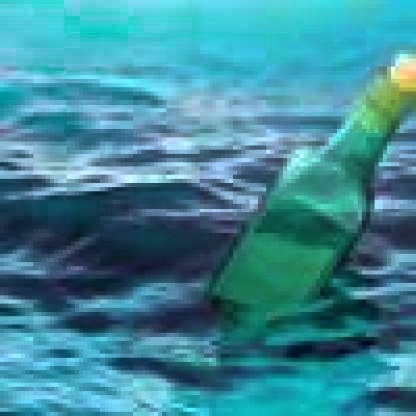gbottle: (220, 62, 416, 333)
